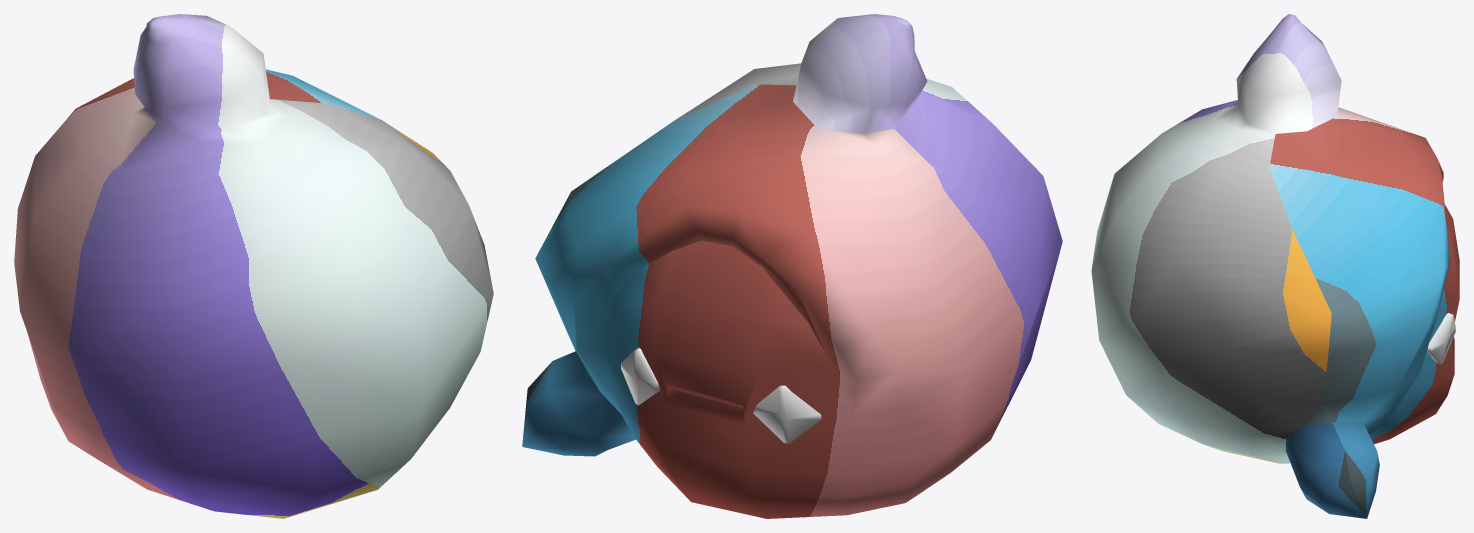
The model's file is Prop_SnowmanHead.glb.
3 views of the same model, side by side, from view 1: azimuth 30°, elevation 25°; view 2: azimuth 150°, elevation 25°; view 3: azimuth 270°, elevation 25° (orthographic). The views are drawn at different scales.
Visible parts, largest first — view 1: Prop_SnowmanHead; view 2: Prop_SnowmanHead; view 3: Prop_SnowmanHead.
Boxes of the visible parts, x1,y1,x2,y2 form: Prop_SnowmanHead: (14,14,493,518); Prop_SnowmanHead: (522,14,1062,518); Prop_SnowmanHead: (1091,14,1459,518).
Bounding box in the file's own units: 0.4761 × 0.5029 × 0.4288.
Materials: 1 (1 with a texture image).
